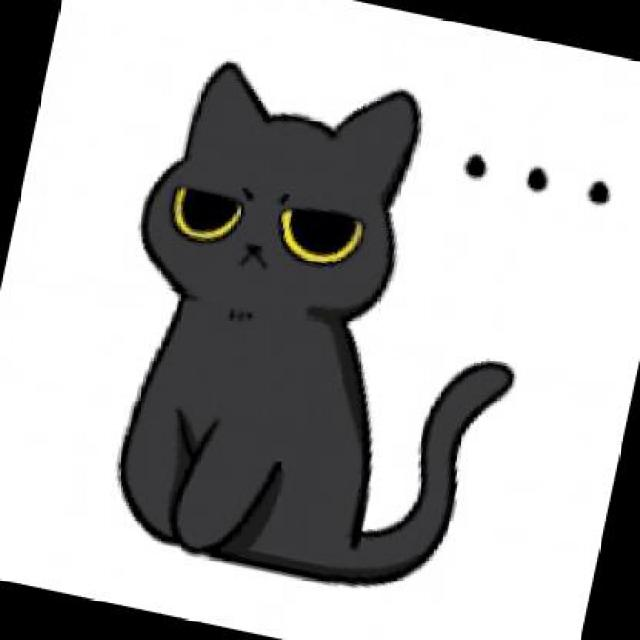animals: (55, 29, 580, 618)
